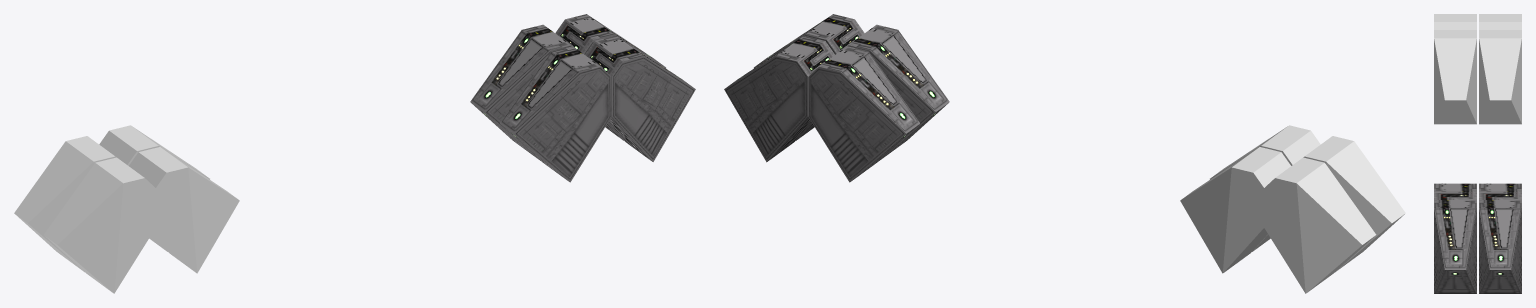
Rendered from smt_ms_cloakgenerator.dae.
3 views of the same model, side by side, from view 1: azimuth 30°, elevation 25°; view 2: azimuth 150°, elevation 25°; view 3: azimuth 270°, elevation 25° (orthographic). The views are drawn at different scales.
Parts seen in each view (by area): view 1: COL[Root], MULT[Root_mesh]_LOD[0]; view 2: COL[Root], MULT[Root_mesh]_LOD[0]; view 3: COL[Root], MULT[Root_mesh]_LOD[0].
Part boxes in pixels (box(x1,y1,x2,y2)): COL[Root]: box(14, 125, 239, 293); MULT[Root_mesh]_LOD[0]: box(470, 14, 695, 182); COL[Root]: box(1180, 125, 1405, 293); MULT[Root_mesh]_LOD[0]: box(724, 14, 949, 182); COL[Root]: box(1434, 14, 1521, 124); MULT[Root_mesh]_LOD[0]: box(1434, 183, 1521, 293).
Size of the model in its own units: 1075 by 174 by 168.
Materials: 3 (3 with a texture image).
